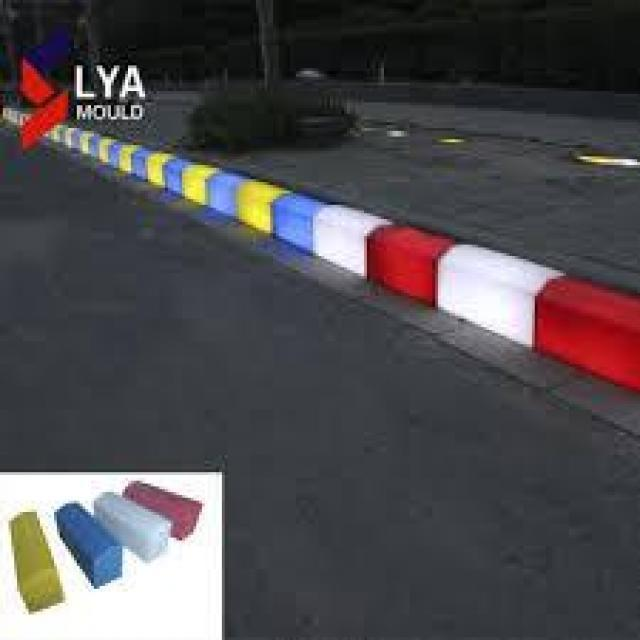curb: (51, 120, 640, 400)
